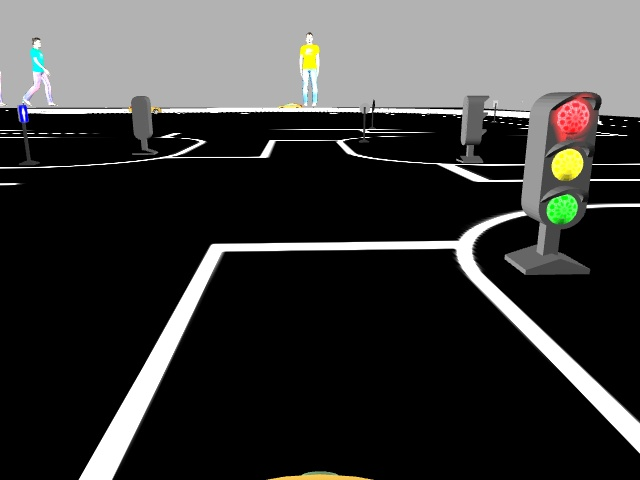TrafficLight: (523, 88, 602, 229)
